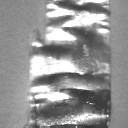slag inclusion: (22, 0, 112, 128)
